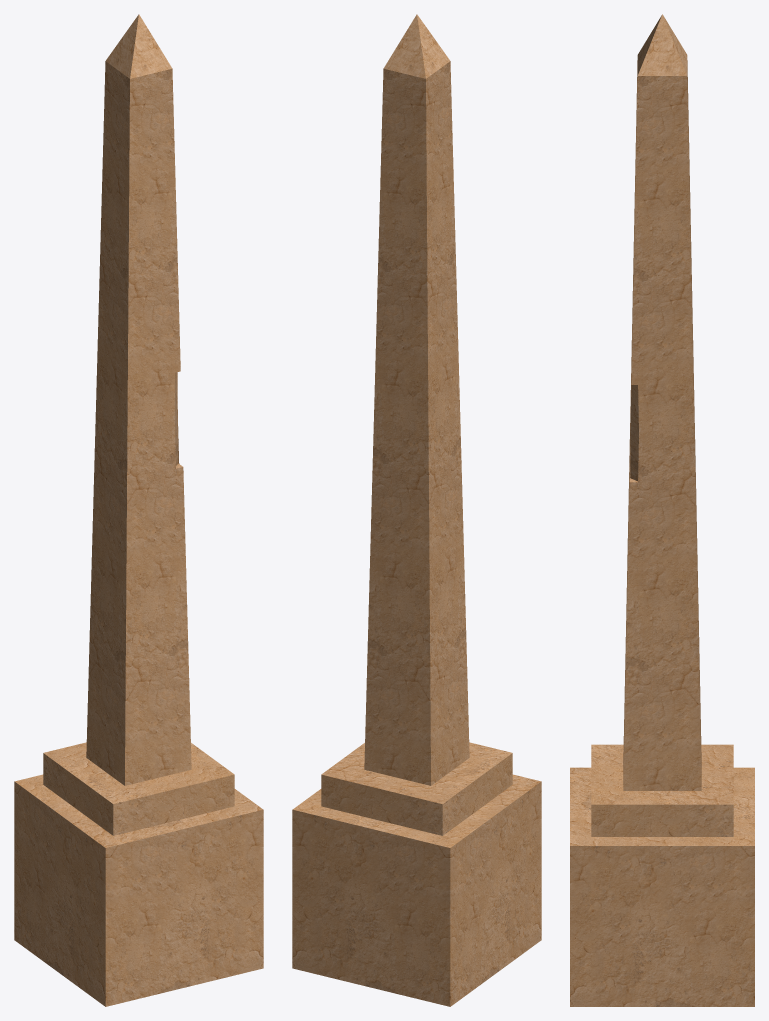
The model's file is obelisk.glb.
The picture shows the model from 3 angles, left to right: view 1: azimuth 30°, elevation 25°; view 2: azimuth 150°, elevation 25°; view 3: azimuth 270°, elevation 25°; orthographic projection.
Visible parts, largest first — view 1: obelisk; view 2: obelisk; view 3: obelisk.
Boxes of the visible parts, box(x1,y1,x2,y2) form: obelisk: box(14, 14, 263, 1006); obelisk: box(292, 14, 541, 1006); obelisk: box(570, 14, 754, 1006).
Size of the model in its own units: 2.6 by 14.8 by 2.6.
1 material, 1 textured.
